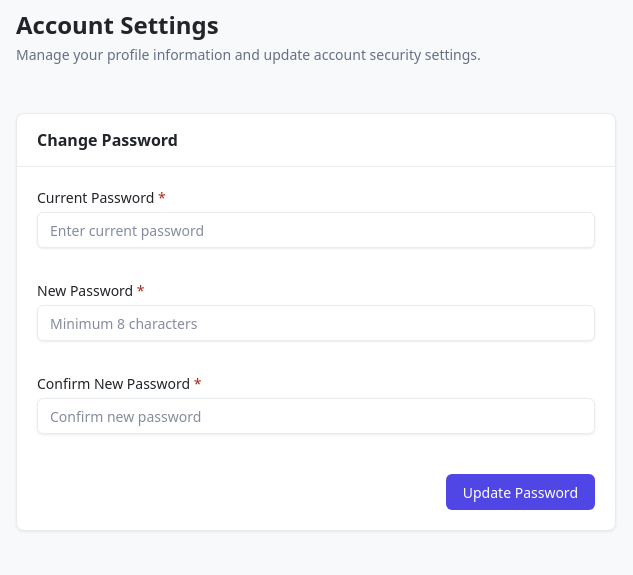
Scenario: AccountPage › surfaces backend 422 field errors
The image size is (633, 575).
Step 1. Type "samepassword123" into the password field labelled "Current Password" → point(316, 230), box top-left (37, 212), bottom-right (595, 248)
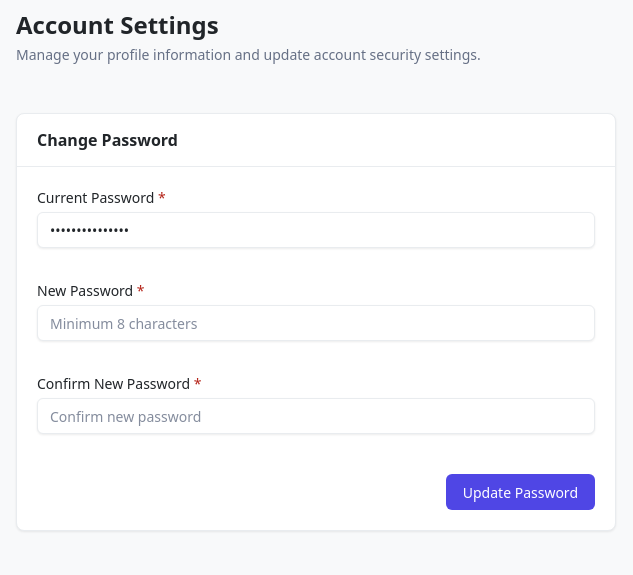
Step 2. Type "samepassword123" into the password field labelled "New Password" → point(316, 323), box top-left (37, 305), bottom-right (595, 341)
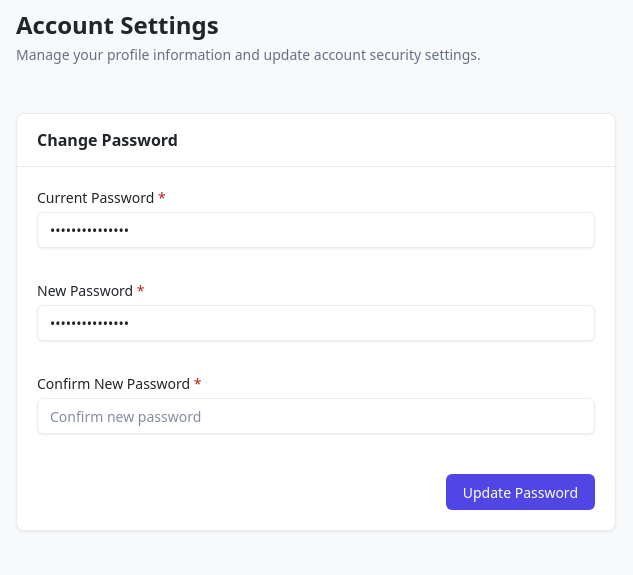
Step 3. Type "samepassword123" into the password field labelled "Confirm New Password" → point(316, 416), box top-left (37, 398), bottom-right (595, 434)
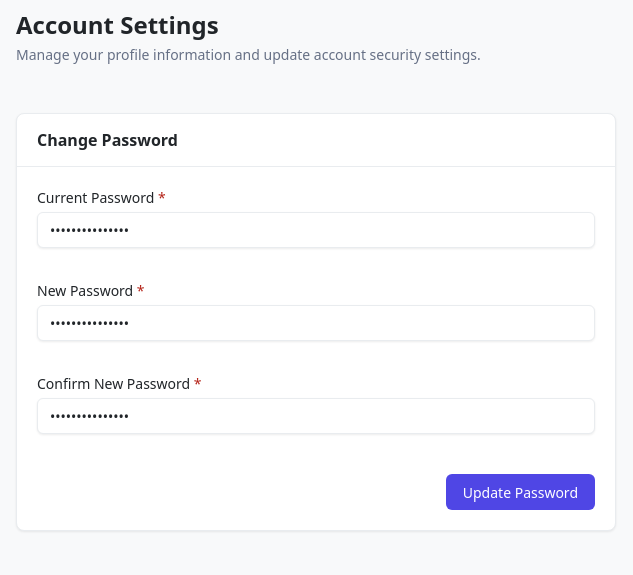
Step 4. Click the button "Update Password" → point(520, 492), box top-left (446, 474), bottom-right (595, 510)
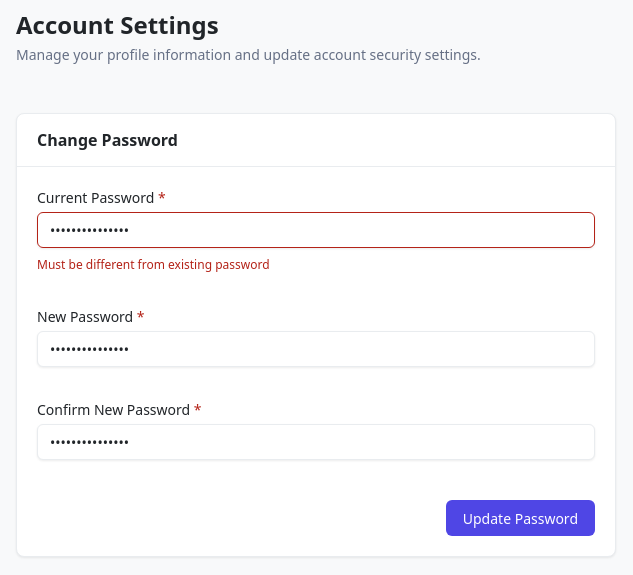
Now the text "Must be different from existing password" is shown, box top-left (37, 256), bottom-right (270, 273)
